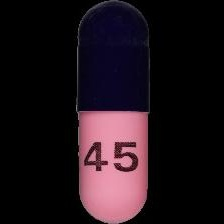65862-017: (0, 0, 224, 224)
